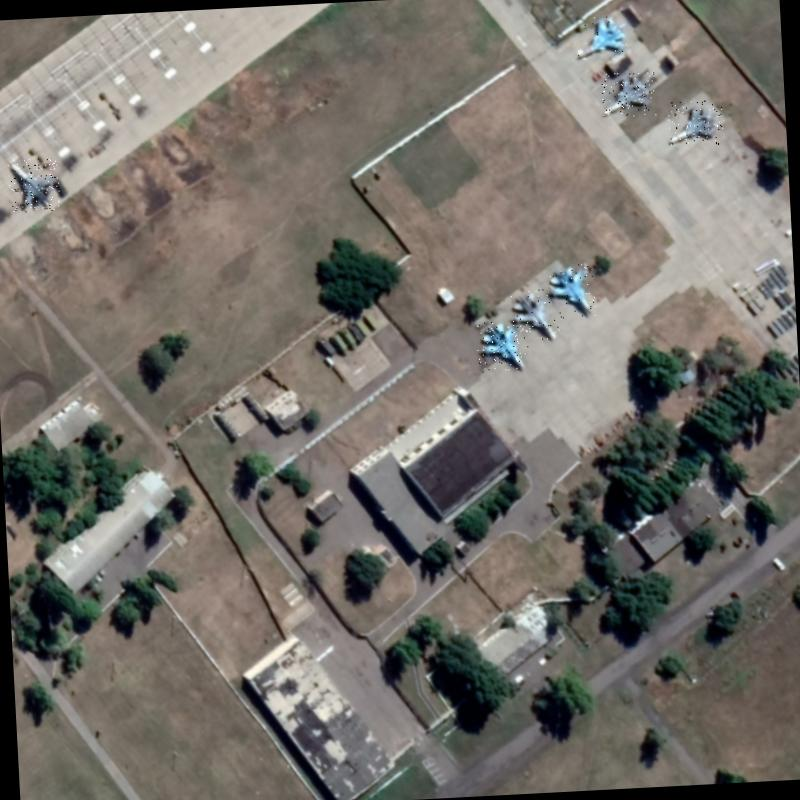A19: (546, 261, 598, 319), (8, 158, 61, 213), (476, 320, 530, 373), (574, 14, 634, 60), (510, 289, 560, 344), (668, 100, 724, 148), (602, 71, 656, 118)
